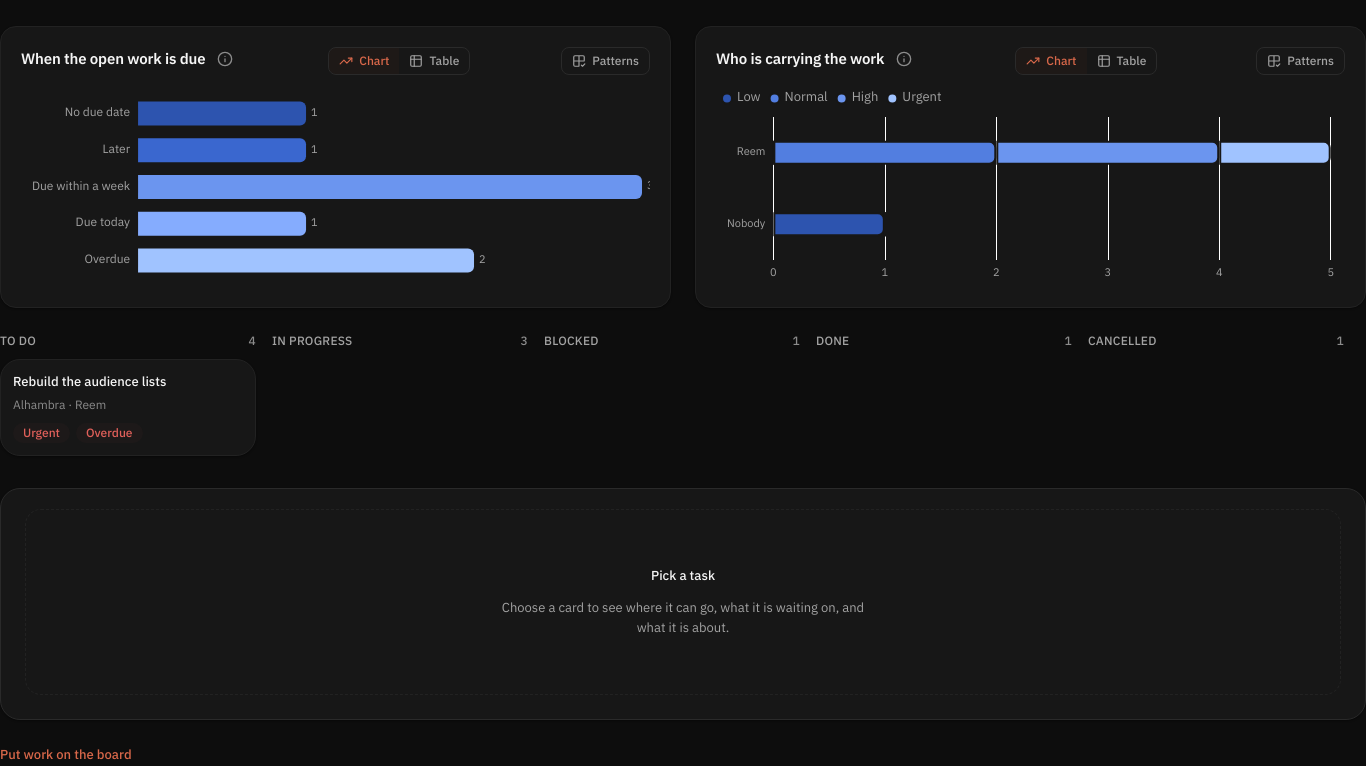
it: a task › keeps showing why work was blocked after it has been unblocked
(page scrolled)
Click the button "Rebuild the audience lists Alhambra · Reem Urgent Overdue" at point(128, 407), box [0,359,256,456]
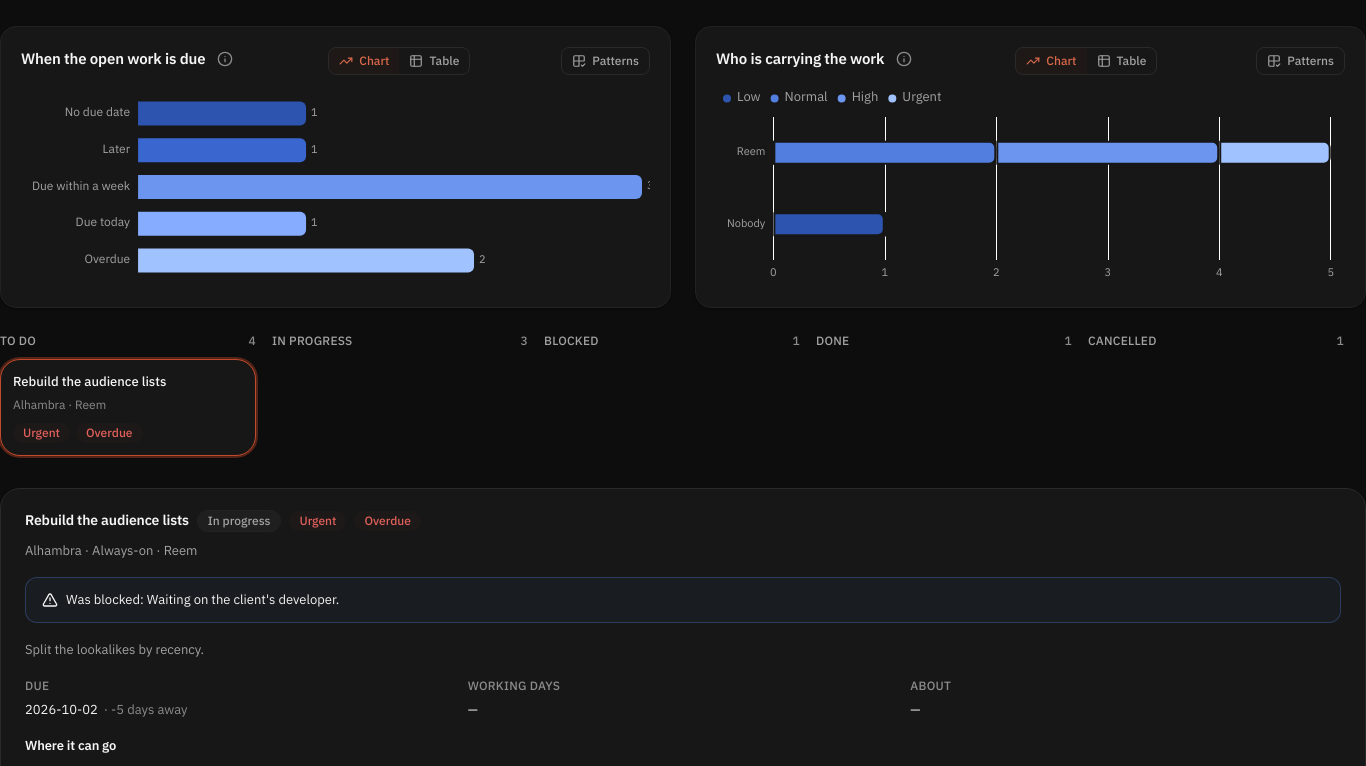
Now the text "Was blocked: Waiting on the client's developer." is shown, box [66,590,339,610]
